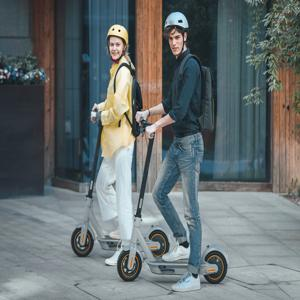human on a scooter: (117, 11, 228, 293), (70, 22, 171, 268)
